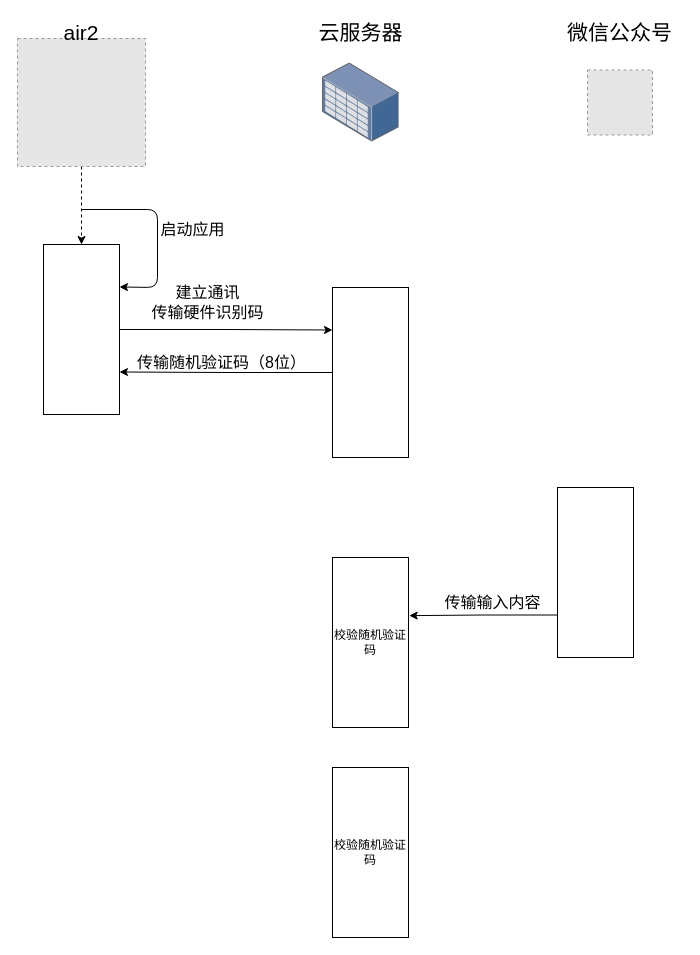
This 700x955 diagram has some shape labels left out. Grey dashed boxes stand in for pictures. The shapes that lost their labels are listed below. From the top down, each one's centre as x and y in pixels, then its label:
(x=370, y=372): 生成验证码随机数
(x=595, y=572): 用户启动公众号输入随机验证码
